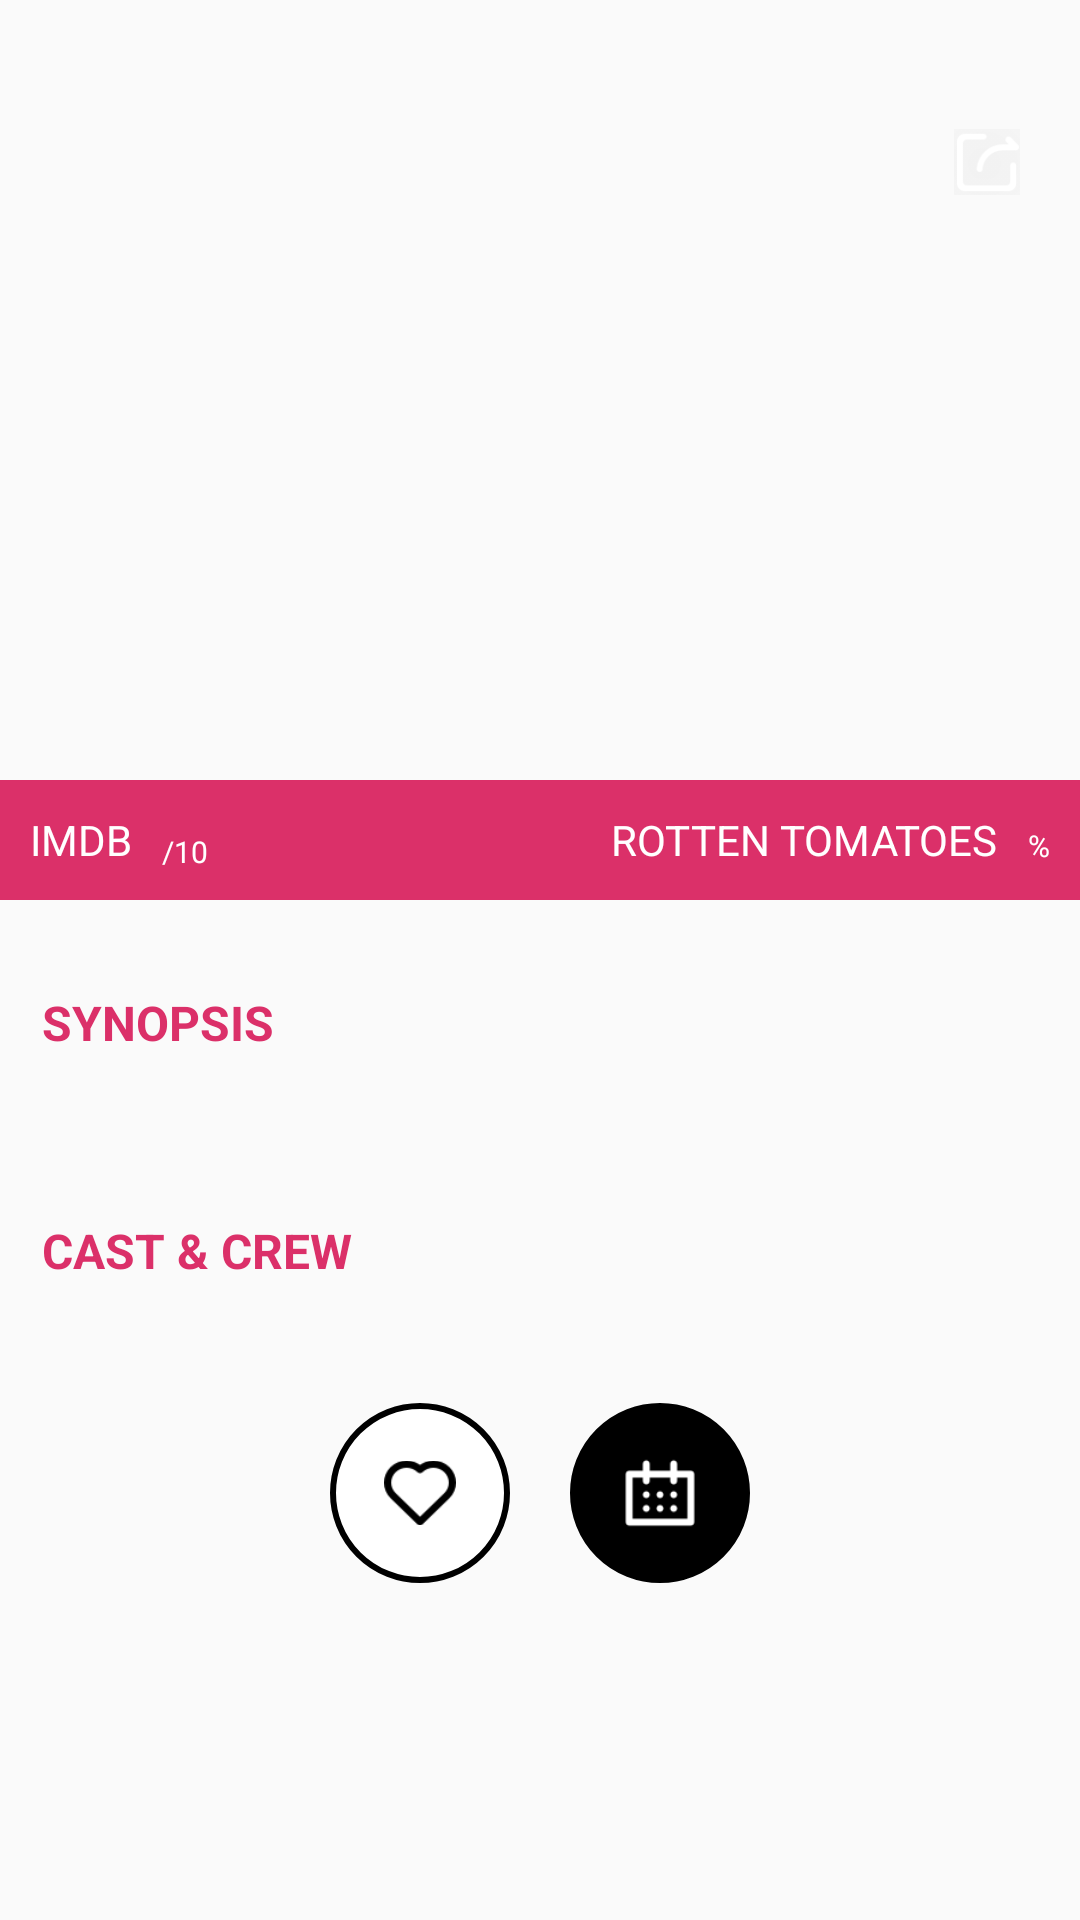

Named icons in this screenshot (1080w x 1920h) and their centers, [x,y]:
calenda: [660,1493]
